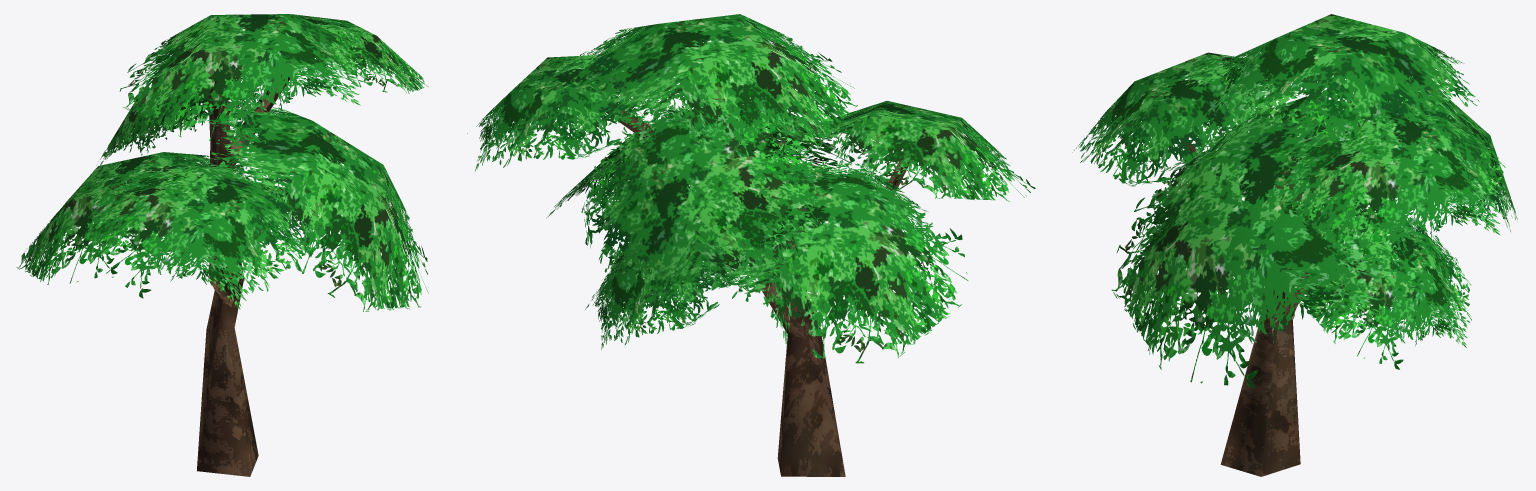
The model's file is tree2.fbx.
3 views of the same model, side by side, from view 1: azimuth 30°, elevation 25°; view 2: azimuth 150°, elevation 25°; view 3: azimuth 270°, elevation 25° (orthographic). The views are drawn at different scales.
Parts seen in each view (by area): view 1: polySurface5, polySurface3, polySurface2, tree2, polySurface4, polySurface1, polySurface6; view 2: polySurface6, polySurface4, polySurface2, polySurface3, polySurface1, tree2, polySurface7, polySurface5; view 3: polySurface5, polySurface1, polySurface2, polySurface3, polySurface7, tree2, polySurface6, polySurface4.
Boxes of the visible parts, bbox=[...] form: polySurface5: bbox=[202, 104, 428, 311]; polySurface3: bbox=[89, 164, 310, 309]; polySurface2: bbox=[119, 14, 367, 140]; tree2: bbox=[197, 61, 294, 476]; polySurface4: bbox=[16, 152, 246, 284]; polySurface1: bbox=[291, 14, 428, 93]; polySurface6: bbox=[94, 66, 258, 169]; polySurface6: bbox=[581, 98, 818, 303]; polySurface4: bbox=[700, 160, 968, 363]; polySurface2: bbox=[566, 14, 857, 157]; polySurface3: bbox=[788, 101, 1035, 201]; polySurface1: bbox=[467, 55, 670, 171]; tree2: bbox=[606, 90, 911, 476]; polySurface7: bbox=[585, 237, 736, 349]; polySurface5: bbox=[546, 103, 854, 232]; polySurface5: bbox=[1111, 104, 1403, 387]; polySurface1: bbox=[1274, 99, 1506, 267]; polySurface2: bbox=[1204, 14, 1479, 144]; polySurface3: bbox=[1072, 52, 1305, 186]; polySurface7: bbox=[1291, 206, 1471, 369]; tree2: bbox=[1181, 96, 1400, 476]; polySurface6: bbox=[1387, 80, 1517, 231]; polySurface4: bbox=[1214, 96, 1456, 198].
Bounding box in the file's own units: 42.16 × 40.01 × 35.81.
